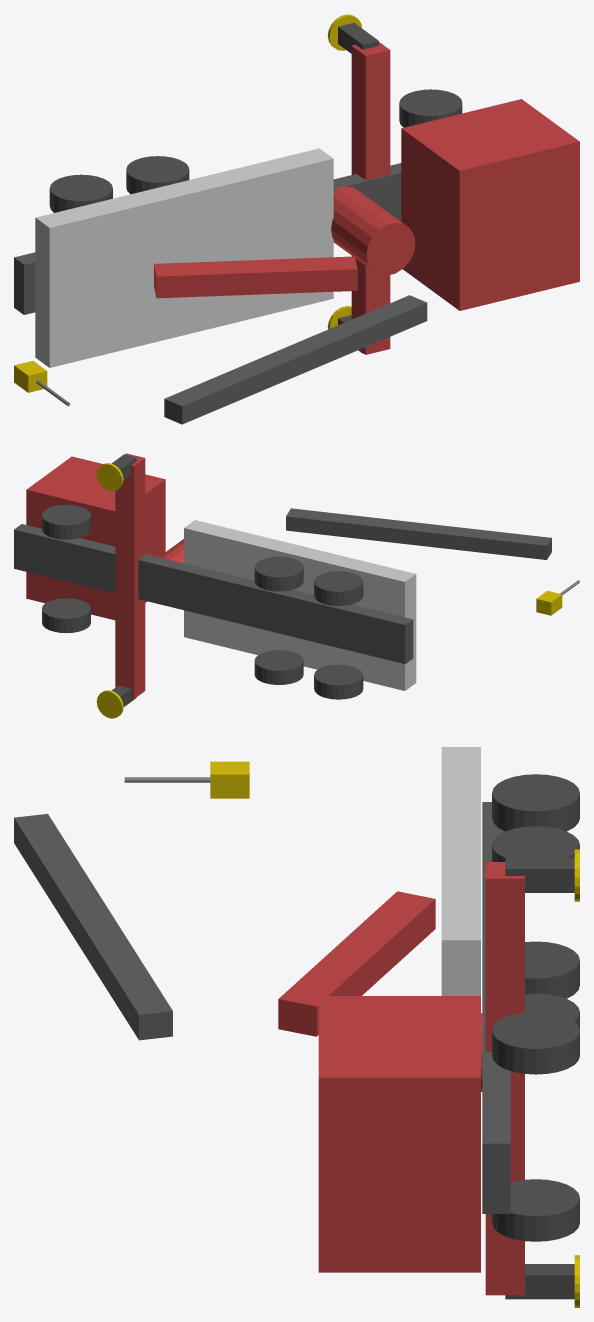
File: enmax_em160zb4_knuckle_crane.glb
3 renders of one model, top to bottom at view 1: azimuth 30°, elevation 25°; view 2: azimuth 150°, elevation 25°; view 3: azimuth 270°, elevation 25°, orthographic. The views are drawn at different scales.
Parts seen in each view (by area): view 1: cargo_flatbed, crane_truck_cabin, knuckle_outer_4section_boom, knuckle_inner_arm, outrigger_beam_5230mm, crane_slewing_column, heavy_chassis, wheel_3.2_1.05, wheel_-1.8_1.05, wheel_-3.2_1.05, 8ton_lifting_hook_block, crane_leg_2.55; view 2: heavy_chassis, cargo_flatbed, crane_truck_cabin, outrigger_beam_5230mm, knuckle_outer_4section_boom, wheel_-1.8_1.05, wheel_-3.2_-1.05, wheel_-1.8_-1.05, wheel_-3.2_1.05, wheel_3.2_1.05, wheel_3.2_-1.05, crane_pad_2.55 (+2 smaller); view 3: crane_truck_cabin, knuckle_outer_4section_boom, outrigger_beam_5230mm, cargo_flatbed, knuckle_inner_arm, heavy_chassis, wheel_3.2_1.05, wheel_-3.2_1.05, wheel_3.2_-1.05, wheel_-3.2_-1.05, wheel_-1.8_1.05, crane_leg_2.55 (+3 smaller).
Boxes of the visible parts, x1,y1,x2,y2 form: cargo_flatbed: (35,148,333,367); crane_truck_cabin: (401,99,579,310); knuckle_outer_4section_boom: (164,295,427,424); knuckle_inner_arm: (154,256,357,298); outrigger_beam_5230mm: (351,42,390,354); crane_slewing_column: (331,186,415,275); heavy_chassis: (14,163,401,314); wheel_3.2_1.05: (399,89,462,127); wheel_-1.8_1.05: (126,156,189,194); wheel_-3.2_1.05: (49,174,112,212); 8ton_lifting_hook_block: (14,361,47,392); crane_leg_2.55: (338,23,378,53); heavy_chassis: (14,524,413,664); cargo_flatbed: (184,520,416,690); crane_truck_cabin: (26,456,165,620); outrigger_beam_5230mm: (115,453,145,698); knuckle_outer_4section_boom: (286,508,551,559); wheel_-1.8_1.05: (254,556,303,591); wheel_-3.2_-1.05: (314,664,363,699); wheel_-1.8_-1.05: (254,650,303,684); wheel_-3.2_1.05: (314,571,363,605); wheel_3.2_1.05: (42,504,90,539); wheel_3.2_-1.05: (42,598,90,633); crane_pad_2.55: (96,463,123,491); crane_truck_cabin: (318,996,480,1272); knuckle_outer_4section_boom: (14,814,172,1040); outrigger_beam_5230mm: (485,862,524,1295); cargo_flatbed: (441,747,480,995); knuckle_inner_arm: (278,891,435,1036); heavy_chassis: (482,802,510,1213); wheel_3.2_1.05: (492,1012,579,1074); wheel_-3.2_1.05: (492,774,579,831); wheel_3.2_-1.05: (492,1179,579,1241); wheel_-3.2_-1.05: (525,941,579,998); wheel_-1.8_1.05: (492,826,579,861); crane_leg_2.55: (505,858,574,892).
Size of the model in its own units: 10.91 by 5.69 by 6.44.
